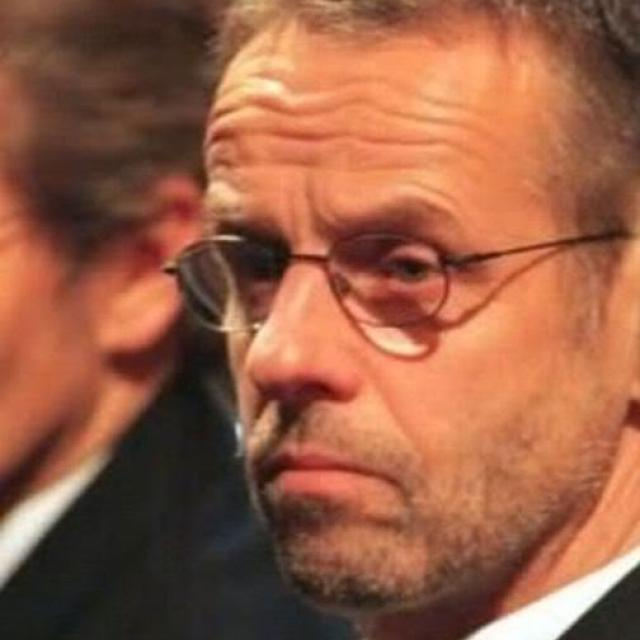Depress: (206, 32, 617, 624)
